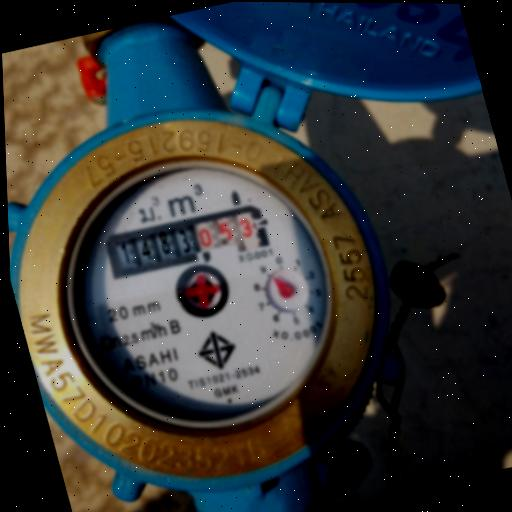0: (194, 221, 217, 252)
1: (115, 239, 136, 271)
3: (235, 210, 261, 252), (173, 226, 194, 258)
4: (134, 234, 155, 266)
5: (214, 216, 237, 248)
8: (154, 230, 176, 262)
border_water_meter_number: (101, 201, 271, 282)
